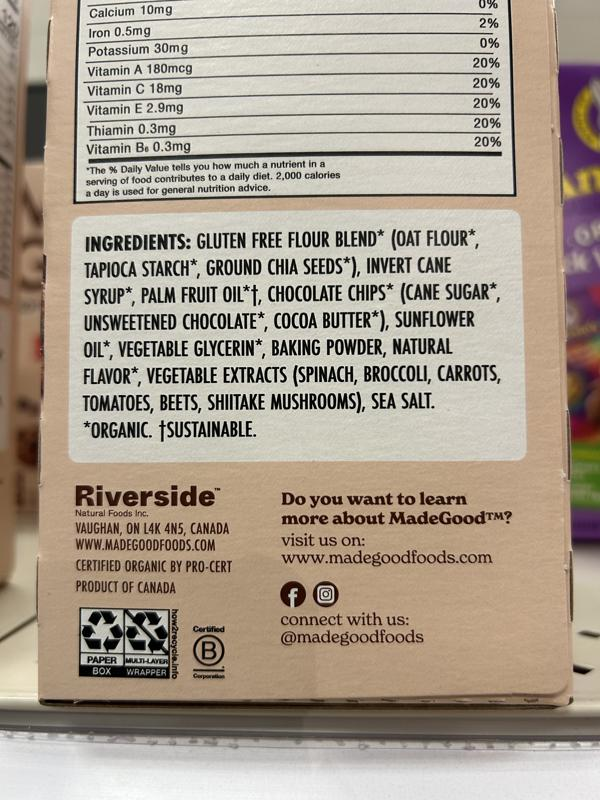ingredients: (80, 227, 505, 443)
